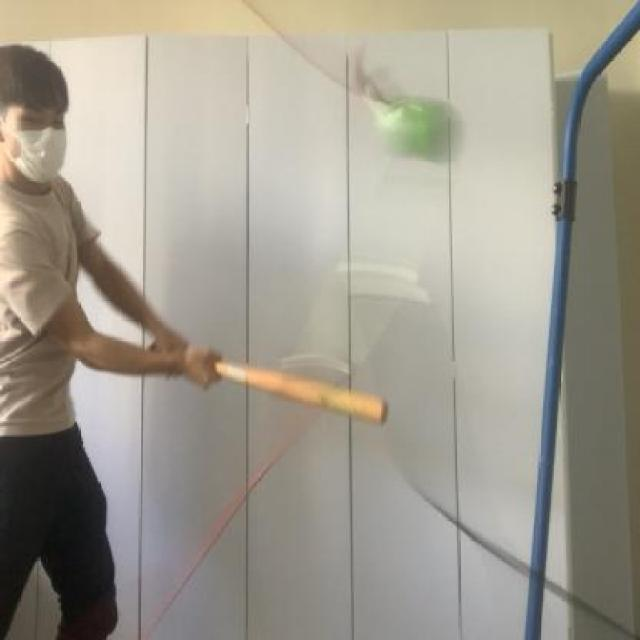baseball: (366, 79, 471, 166)
